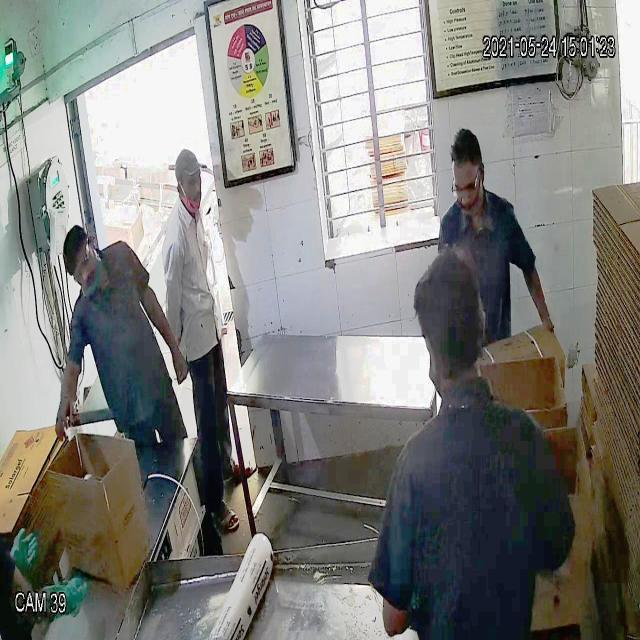glasses: (448, 172, 488, 204), (63, 247, 95, 286)
no-glass: (175, 170, 207, 197)
